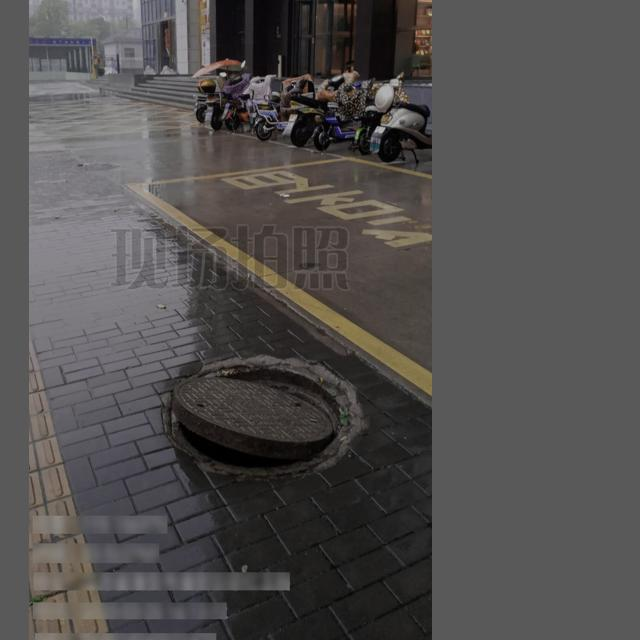uncovered: (162, 353, 356, 474)
